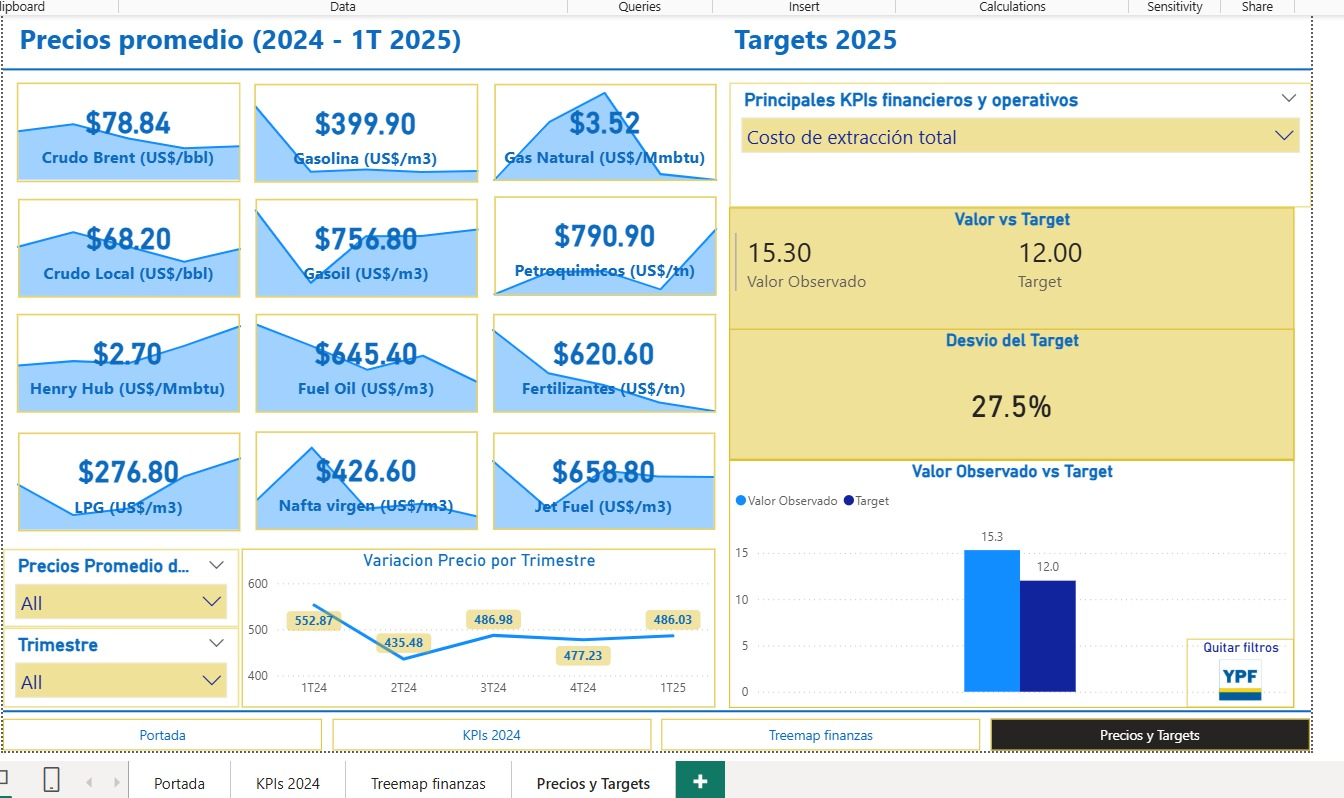

Layout of this report page (visuals, bound fields, positions):
{"tool":"powerbi","page":{"name":"Precios y Targets","canvas":[1280,720],"ordinal":3},"visuals":[{"type":"areaChart","fields":{"Category":["Precios.Fecha"],"Y":["Measures (2).Precio Promedio Crudo Brent"]},"box":[0,61.1,247,105.2],"z":0},{"type":"areaChart","fields":{"Category":["Precios.Fecha"],"Y":["Measures (2).Precio Promedio Crudo Local"]},"box":[0,174.9,247,105.2],"z":1000},{"type":"card","fields":{"Values":["Measures (2).Precio Promedio Crudo Local"]},"box":[14.7,179.8,217.7,96.6],"z":2000},{"type":"card","fields":{"Values":["Measures (2).Precio Promedio Crudo"]},"box":[13.5,66,218.9,97.8],"z":3000},{"type":"areaChart","fields":{"Category":["Precios.Fecha"],"Y":["Measures (2).Precio Promedio Henry Hub (US$/Mmbtu)"]},"box":[0,288.6,247,105.2],"z":4000},{"type":"card","fields":{"Values":["Measures (2).Precio Promedio Henry Hub (US$/Mmbtu)"]},"box":[13.5,292.3,218,96.6],"z":5000},{"type":"areaChart","fields":{"Category":["Precios.Fecha"],"Y":["Measures (2).Precio Promedio LPG"]},"box":[0,403.5,247,105.2],"z":6000},{"type":"card","fields":{"Values":["Measures (2).Precio Promedio LPG"]},"box":[14.7,408.4,217.7,96.6],"z":7000},{"type":"areaChart","fields":{"Y":["Measures (2).Precio Promedio Gasolina"],"Category":["Precios.Fecha"]},"box":[232.3,62.4,247,105.2],"z":8000},{"type":"card","fields":{"Values":["Measures (2).Precio Promedio Gasolina"]},"box":[245.8,67.3,218.9,96.6],"z":9000},{"type":"areaChart","fields":{"Category":["Precios.Fecha"],"Y":["Measures (2).Precio Promedio Gasoil"]},"box":[232.3,174.9,247,105.2],"z":10000},{"type":"card","fields":{"Values":["Measures (2).Precio Promedio Gasoil (US$/m3)"]},"box":[247,179.8,217.7,96.6],"z":11000},{"type":"areaChart","fields":{"Category":["Precios.Fecha"],"Y":["Measures (2).Precio Promedio Fuel oil"]},"box":[233.6,288.6,247,105.2],"z":12000},{"type":"card","fields":{"Values":["Measures (2).Precio Promedio Fuel oil"]},"box":[247,292.3,217.7,96.6],"z":13000},{"type":"areaChart","fields":{"Category":["Precios.Fecha"],"Y":["Measures (2).Precio Promedio Nafta virgen"]},"box":[233.6,403.5,245.8,105.2],"z":14000},{"type":"card","fields":{"Values":["Measures (2).Precio Promedio Nafta virgen"]},"box":[247,407.2,217.7,96.6],"z":15000},{"type":"areaChart","fields":{"Category":["Precios.Fecha"],"Y":["Measures (2).Precio Promedio Gas Natural"]},"box":[465.9,62.4,247,105.2],"z":16000},{"type":"card","fields":{"Values":["Measures (2).Precio Promedio Gas Natural"]},"box":[480.6,67.3,217.7,95.4],"z":17000},{"type":"areaChart","fields":{"Category":["Precios.Fecha"],"Y":["Measures (2).Precio Promedio Jet fuel"]},"box":[464.7,403.5,245.8,105.2],"z":18000},{"type":"card","fields":{"Values":["Measures (2).Precio Promedio Jet fuel y querosene"]},"box":[479.4,408.4,217.7,95.4],"z":19000},{"type":"areaChart","fields":{"Category":["Precios.Fecha"],"Y":["Measures (2).Precio Promedio Petroquimicos"]},"box":[465.9,174.9,247,105.2],"z":22000},{"type":"card","fields":{"Values":["Measures (2).Precio Promedio Petroquimicos"]},"box":[480.6,177.3,217.7,96.6],"z":23000},{"type":"areaChart","fields":{"Category":["Precios.Fecha"],"Y":["Measures (2).Precio Promedio Fertilizantes"]},"box":[464.7,288.6,247,105.2],"z":24000},{"type":"card","fields":{"Values":["Measures (2).Precio Promedio Fertilizantes"]},"box":[479.4,292.3,218,97],"z":25000},{"type":"textbox","box":[11,0,445.1,55],"z":26000},{"type":"textbox","box":[710.5,0,280,55],"z":27000},{"type":"shape","box":[0,40.4,1280.3,25.7],"z":27001},{"type":"shape","box":[0,657.9,1280.3,46.5],"z":27002},{"type":"pageNavigator","box":[0,688.5,1280.3,31.8],"z":27003},{"type":"slicer","fields":{"Values":["Precios.Precios promedios de venta (YPF Individual)"]},"box":[0,522.1,231.1,77],"z":27004},{"type":"lineChart","title":"Variacion Precio por Trimestre","fields":{"Category":["Precios.Trimestre"],"Y":["Avg(Precios.Value)"]},"box":[233.6,522.1,463.5,155.3],"z":27005},{"type":"slicer","fields":{"Values":["Precios.Trimestre"]},"box":[0,599.2,231.1,78.3],"z":27006},{"type":"slicer","fields":{"Values":["Targets 2025.Principiales KPIs financieros y operativos"]},"box":[710.5,66,569.8,122.3],"z":27008},{"type":"multiRowCard","title":"Valor vs Target","fields":{"Values":["Measures (2).Valor_Observado_KPI","Measures (2).Target_KPI"]},"box":[710.5,188.3,552.7,247],"z":27009},{"type":"card","title":"Desvio del Target","fields":{"Values":["Measures (2).Desviacion_%_KPI_Texto"]},"box":[710.5,306.9,552.7,128.4],"z":27010},{"type":"clusteredColumnChart","title":"Valor Observado vs Target","fields":{"Y":["Measures (2).Valor_Observado_KPI","Measures (2).Target_KPI"]},"box":[710.5,435.3,552.7,242.1],"z":27011},{"type":"image","title":"Quitar filtros","box":[1158,610.2,105.2,67.3],"z":27012}]}

Visuals, with their boxes on the page's 1280x720 design canvas (x1, y1, x2, y2). These are canvas units, not pixel positions in the 1344x798 screenshot, which may show the page scaled, cropped or inside an application window:
areaChart - Precios.Fecha x Measures (2).Precio Promedio Crudo Brent: (left=0, top=61, right=247, bottom=166)
areaChart - Precios.Fecha x Measures (2).Precio Promedio Crudo Local: (left=0, top=175, right=247, bottom=280)
card - Measures (2).Precio Promedio Crudo Local: (left=15, top=180, right=232, bottom=276)
card - Measures (2).Precio Promedio Crudo: (left=14, top=66, right=232, bottom=164)
areaChart - Precios.Fecha x Measures (2).Precio Promedio Henry Hub (US$/Mmbtu): (left=0, top=289, right=247, bottom=394)
card - Measures (2).Precio Promedio Henry Hub (US$/Mmbtu): (left=14, top=292, right=232, bottom=389)
areaChart - Precios.Fecha x Measures (2).Precio Promedio LPG: (left=0, top=404, right=247, bottom=509)
card - Measures (2).Precio Promedio LPG: (left=15, top=408, right=232, bottom=505)
areaChart - Measures (2).Precio Promedio Gasolina x Precios.Fecha: (left=232, top=62, right=479, bottom=168)
card - Measures (2).Precio Promedio Gasolina: (left=246, top=67, right=465, bottom=164)
areaChart - Precios.Fecha x Measures (2).Precio Promedio Gasoil: (left=232, top=175, right=479, bottom=280)
card - Measures (2).Precio Promedio Gasoil (US$/m3): (left=247, top=180, right=465, bottom=276)
areaChart - Precios.Fecha x Measures (2).Precio Promedio Fuel oil: (left=234, top=289, right=481, bottom=394)
card - Measures (2).Precio Promedio Fuel oil: (left=247, top=292, right=465, bottom=389)
areaChart - Precios.Fecha x Measures (2).Precio Promedio Nafta virgen: (left=234, top=404, right=479, bottom=509)
card - Measures (2).Precio Promedio Nafta virgen: (left=247, top=407, right=465, bottom=504)
areaChart - Precios.Fecha x Measures (2).Precio Promedio Gas Natural: (left=466, top=62, right=713, bottom=168)
card - Measures (2).Precio Promedio Gas Natural: (left=481, top=67, right=698, bottom=163)
areaChart - Precios.Fecha x Measures (2).Precio Promedio Jet fuel: (left=465, top=404, right=710, bottom=509)
card - Measures (2).Precio Promedio Jet fuel y querosene: (left=479, top=408, right=697, bottom=504)
areaChart - Precios.Fecha x Measures (2).Precio Promedio Petroquimicos: (left=466, top=175, right=713, bottom=280)
card - Measures (2).Precio Promedio Petroquimicos: (left=481, top=177, right=698, bottom=274)
areaChart - Precios.Fecha x Measures (2).Precio Promedio Fertilizantes: (left=465, top=289, right=712, bottom=394)
card - Measures (2).Precio Promedio Fertilizantes: (left=479, top=292, right=697, bottom=389)
textbox: (left=11, top=0, right=456, bottom=55)
textbox: (left=710, top=0, right=990, bottom=55)
shape: (left=0, top=40, right=1280, bottom=66)
shape: (left=0, top=658, right=1280, bottom=704)
pageNavigator: (left=0, top=688, right=1280, bottom=720)
slicer - Precios.Precios promedios de venta (YPF Individual): (left=0, top=522, right=231, bottom=599)
"Variacion Precio por Trimestre" lineChart: (left=234, top=522, right=697, bottom=677)
slicer - Precios.Trimestre: (left=0, top=599, right=231, bottom=678)
slicer - Targets 2025.Principiales KPIs financieros y operativos: (left=710, top=66, right=1280, bottom=188)
"Valor vs Target" multiRowCard: (left=710, top=188, right=1263, bottom=435)
"Desvio del Target" card: (left=710, top=307, right=1263, bottom=435)
"Valor Observado vs Target" clusteredColumnChart: (left=710, top=435, right=1263, bottom=677)
"Quitar filtros" image: (left=1158, top=610, right=1263, bottom=678)
